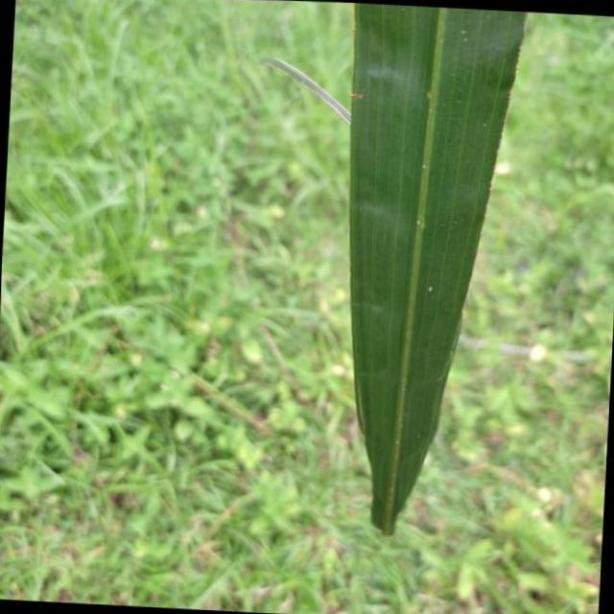Boron: (347, 0, 529, 550)
